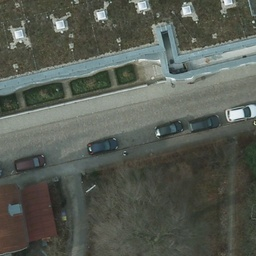car: (188, 111, 220, 134), (224, 102, 256, 125), (15, 151, 45, 175), (86, 135, 118, 157), (154, 119, 184, 138)
